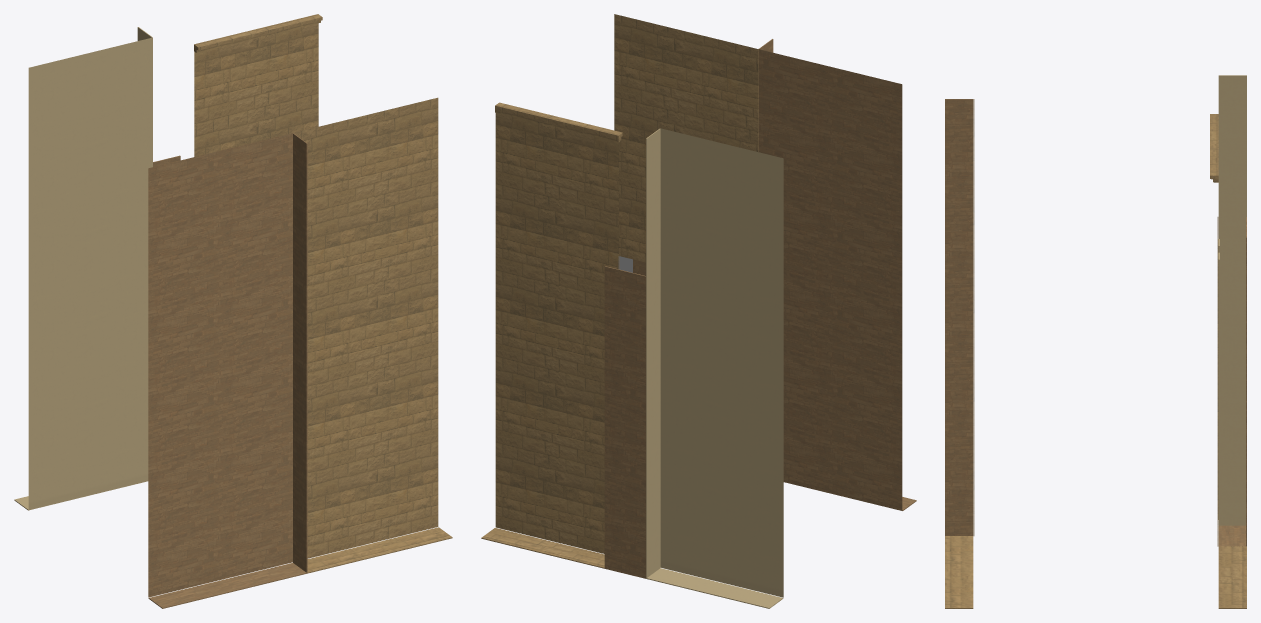
Rendered from unit-link-east-upper.glb.
3 views of the same model, side by side, from view 1: azimuth 30°, elevation 25°; view 2: azimuth 150°, elevation 25°; view 3: azimuth 270°, elevation 25° (orthographic). The views are drawn at different scales.
Parts seen in each view (by area): view 1: bz06_dressed_sandstone-cast, bz06_service_stone-cast, bz06_pale_lime-cast; view 2: bz06_dressed_sandstone-cast, bz06_service_stone-cast, bz06_pale_lime-cast; view 3: bz06_service_stone-cast, bz06_pale_lime-cast, bz06_dressed_sandstone-cast.
Part boxes in pixels (bbox=[...]): bz06_dressed_sandstone-cast: bbox=[194, 14, 452, 573]; bz06_service_stone-cast: bbox=[148, 133, 307, 608]; bz06_pale_lime-cast: bbox=[14, 27, 152, 510]; bz06_dressed_sandstone-cast: bbox=[481, 14, 758, 568]; bz06_service_stone-cast: bbox=[604, 39, 916, 578]; bz06_pale_lime-cast: bbox=[646, 128, 783, 608]; bz06_service_stone-cast: bbox=[945, 99, 1246, 546]; bz06_pale_lime-cast: bbox=[1218, 75, 1246, 525]; bz06_dressed_sandstone-cast: bbox=[945, 99, 1246, 608].
Size of the model in its own units: 7 by 10.22 by 6.2.
4 materials, 3 textured.
